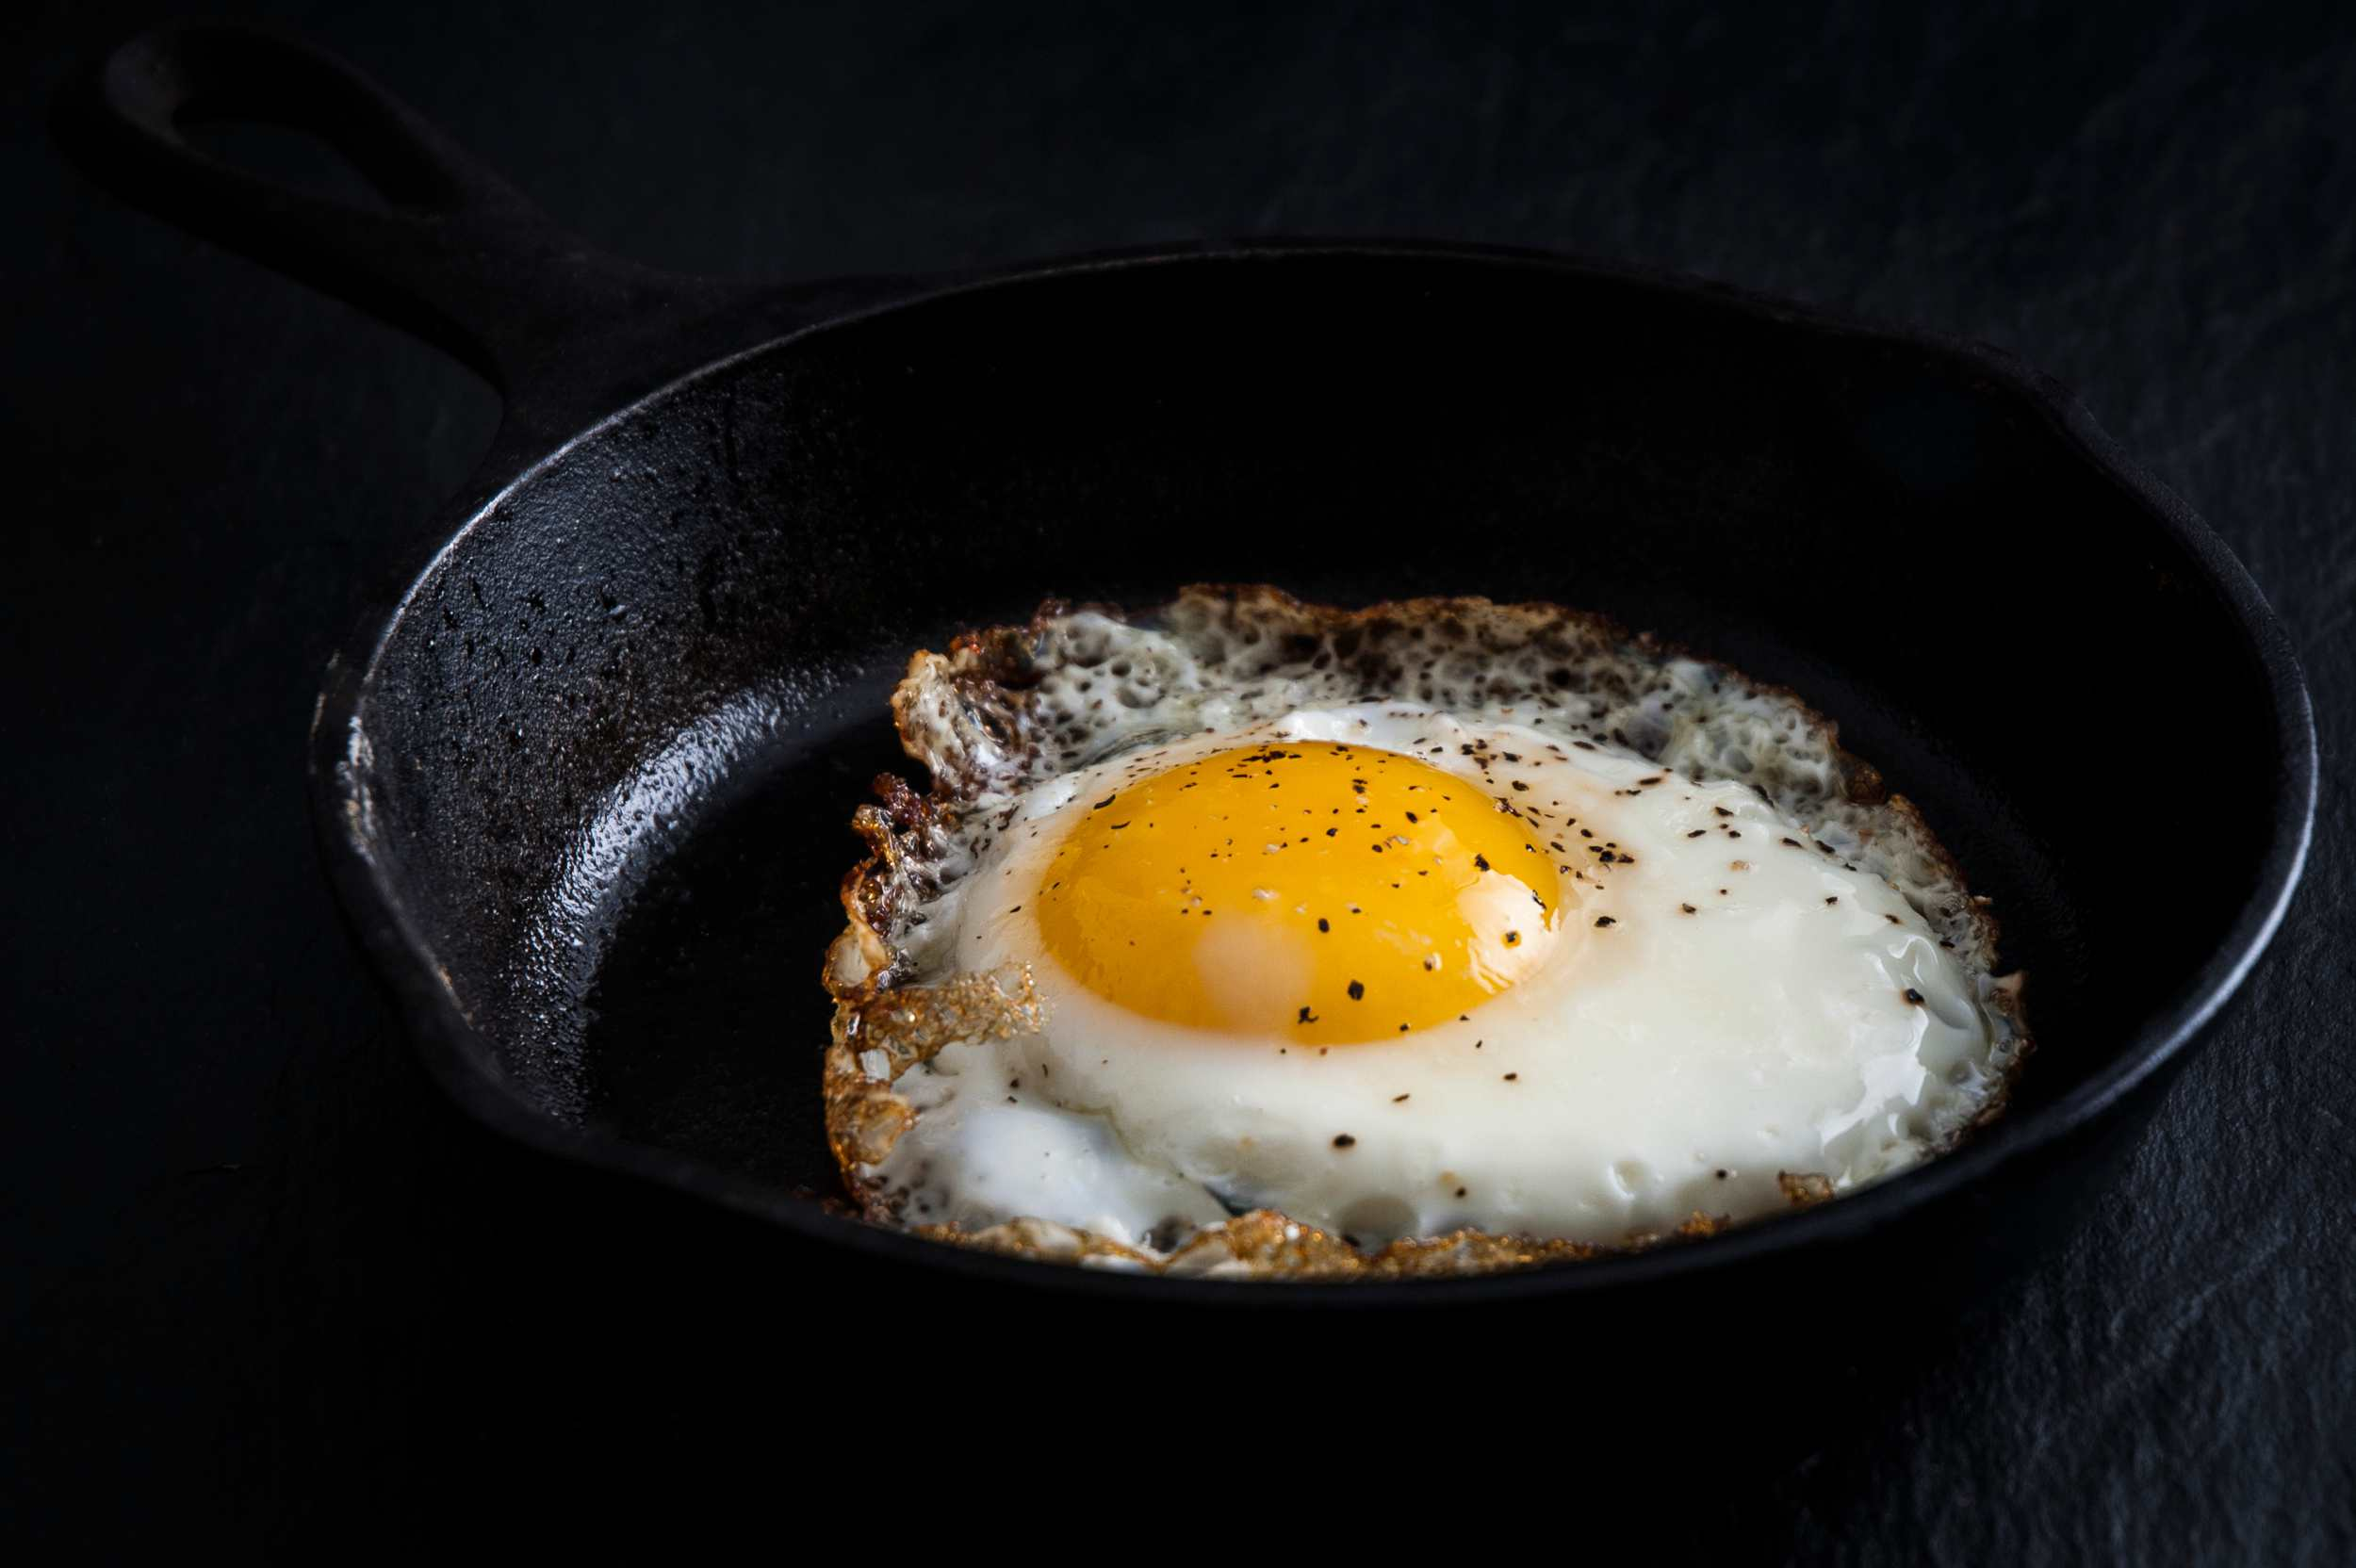fried egg: (917, 642, 1813, 1172)
